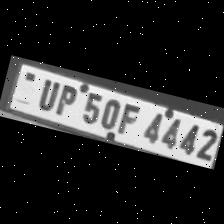0: (96, 94, 122, 130)
2: (192, 122, 220, 160)
4: (136, 105, 167, 145), (155, 111, 182, 150), (174, 116, 200, 154)
5: (74, 87, 104, 125)
F: (114, 98, 142, 136)
P: (51, 80, 80, 118)
U: (32, 74, 60, 111)
